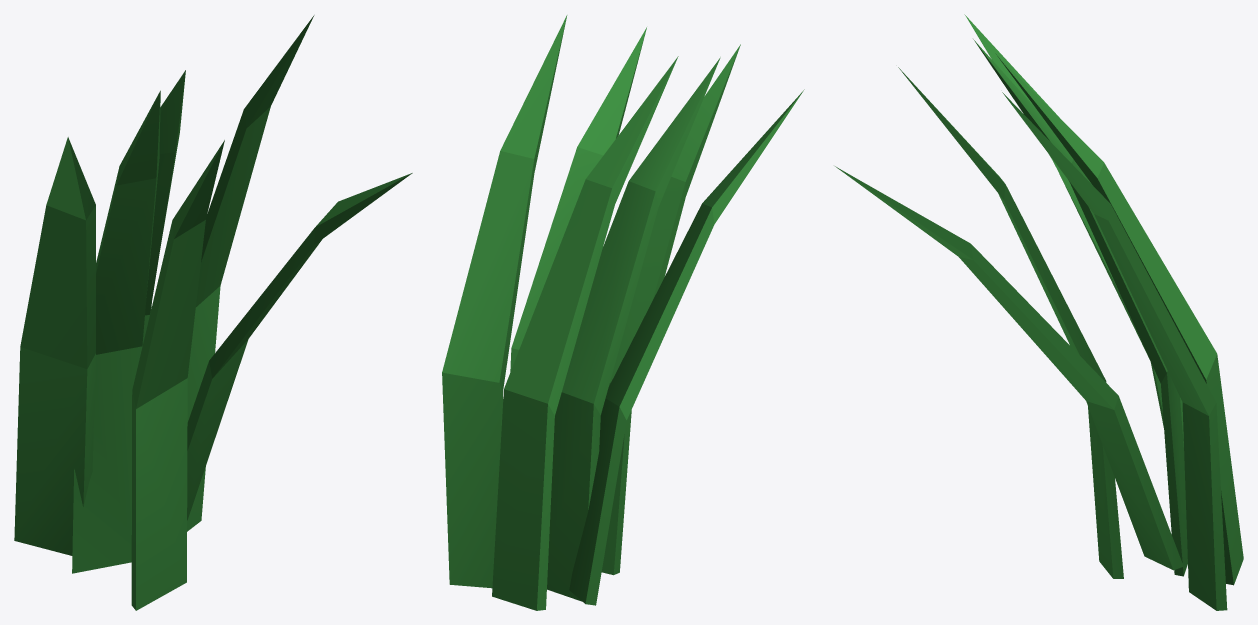
Rendered from grass_001.glb.
3 renders of one model, left to right at view 1: azimuth 30°, elevation 25°; view 2: azimuth 150°, elevation 25°; view 3: azimuth 270°, elevation 25°, orthographic. The views are drawn at different scales.
Parts seen in each view (by area): view 1: grass_001; view 2: grass_001; view 3: grass_001.
Boxes of the visible parts, x1,y1,x2,y2 form: grass_001: [14, 15, 412, 610]; grass_001: [442, 15, 804, 610]; grass_001: [835, 14, 1243, 610].
Size of the model in its own units: 0.5004 by 0.9863 by 0.7039.
Materials: 1 (1 with a texture image).
